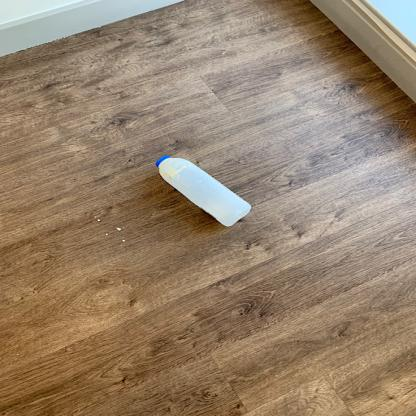trash: (156, 154, 255, 231)
